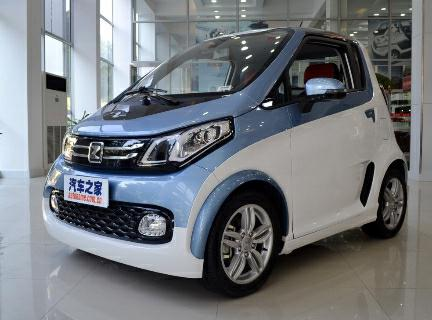众泰-E200: (36, 24, 417, 304)
